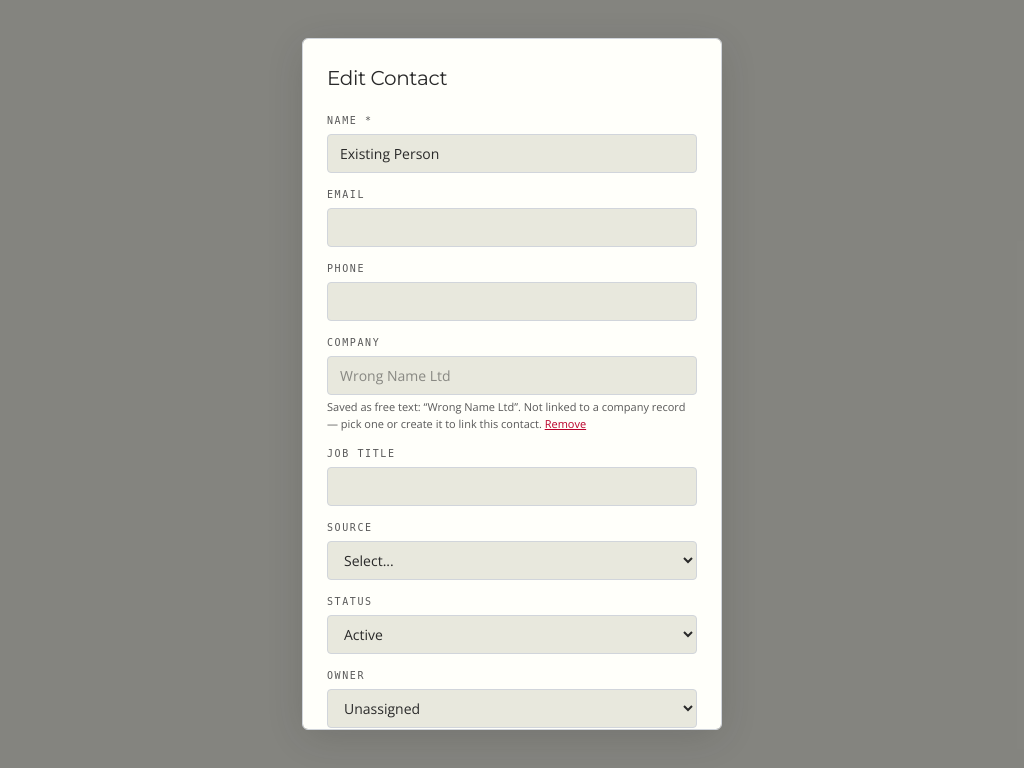
Scenario: ContactForm — picking, clearing and creating › releases the form lock when the create is explicitly abandoned with Escape
Type "Slowco" into the dropdown with id "contact-company" at (512, 376), box x1=327 y1=356 x2=697 y2=395
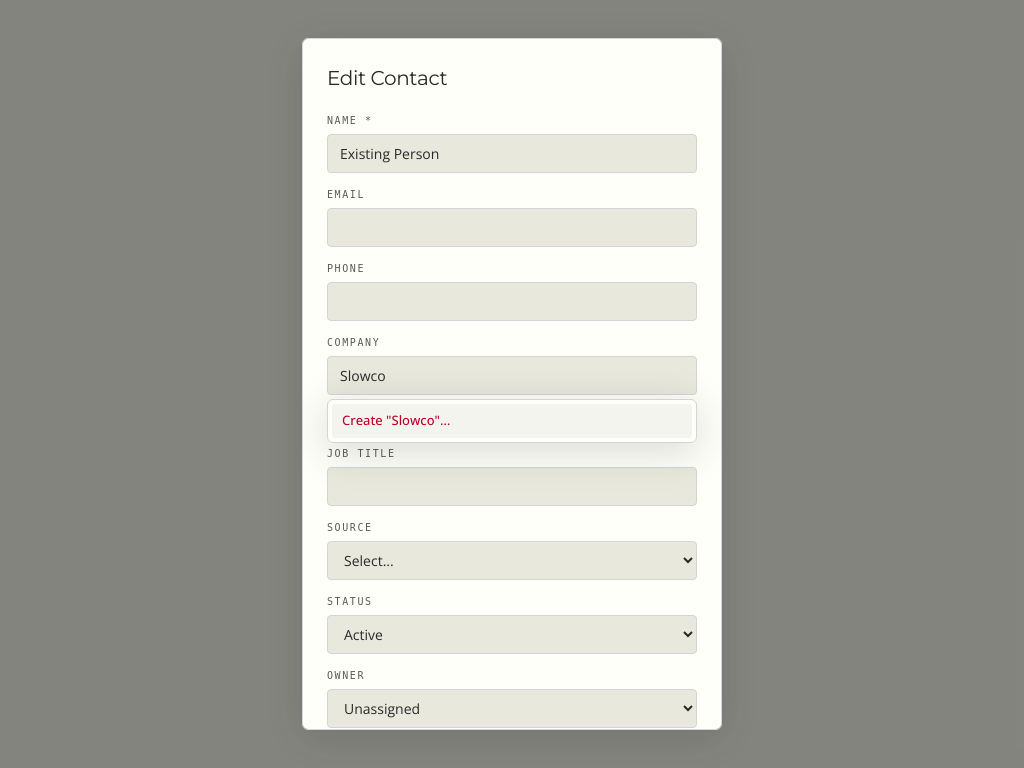
Click the option "Create \"Slowco\"…" at (396, 420), box x1=332 y1=404 x2=692 y2=438
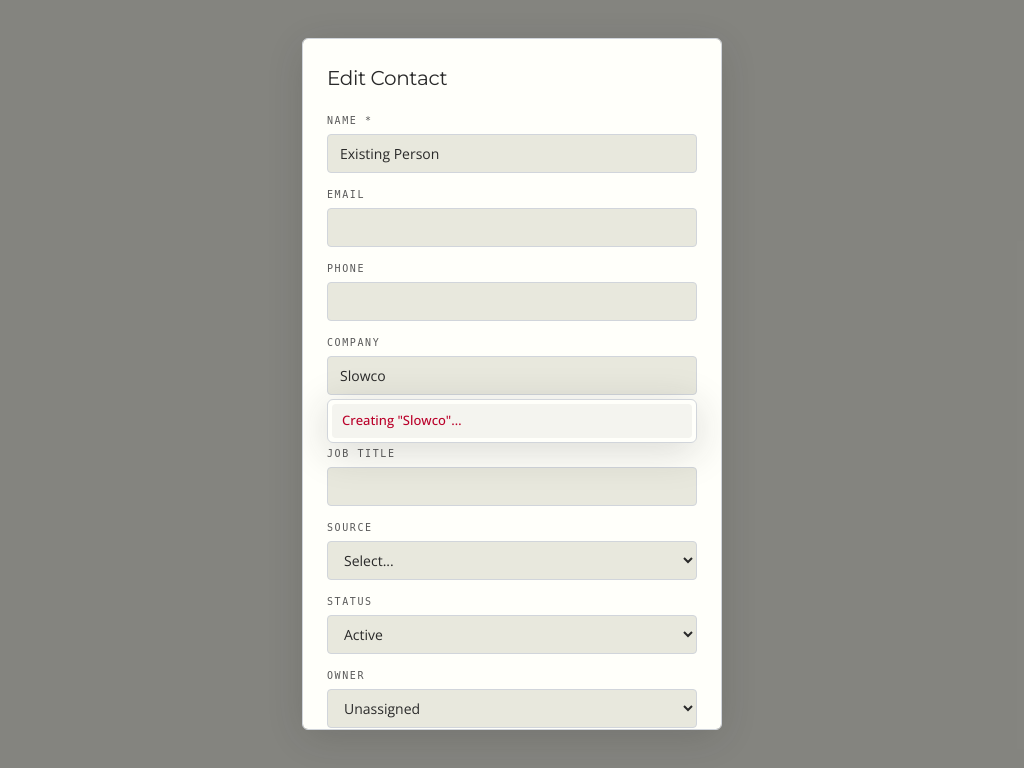
Press Escape in the dropdown with id "contact-company", box x1=327 y1=356 x2=697 y2=395
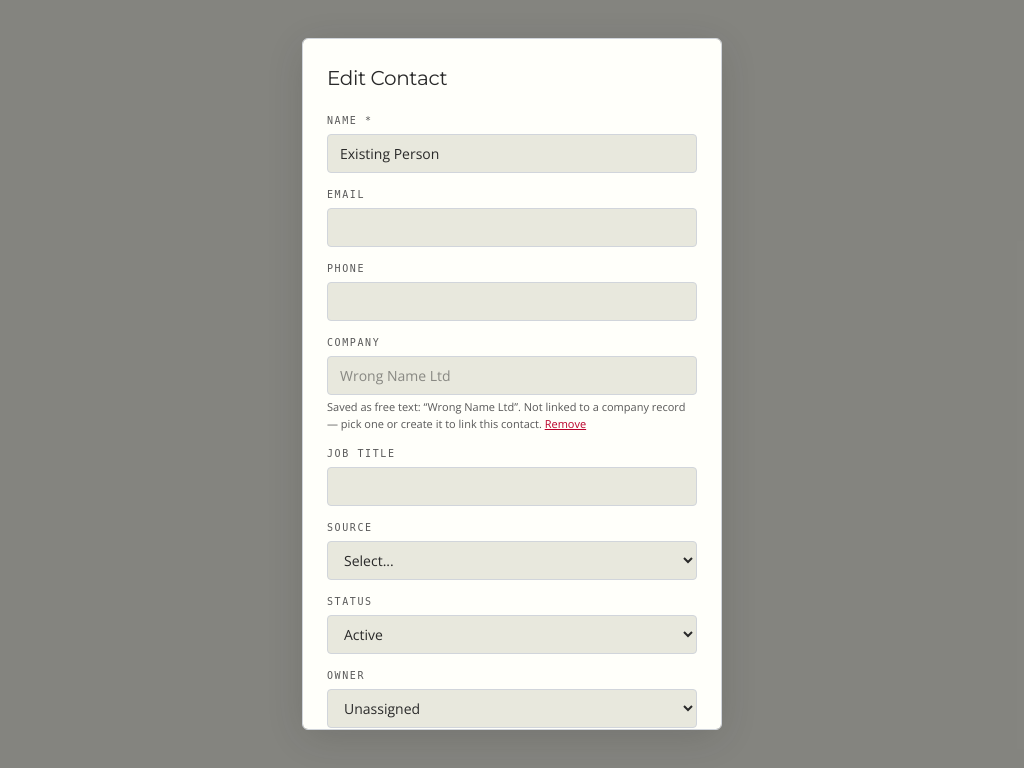
Expected: the button "Remove" is enabled, x1=545 y1=416 x2=586 y2=432
